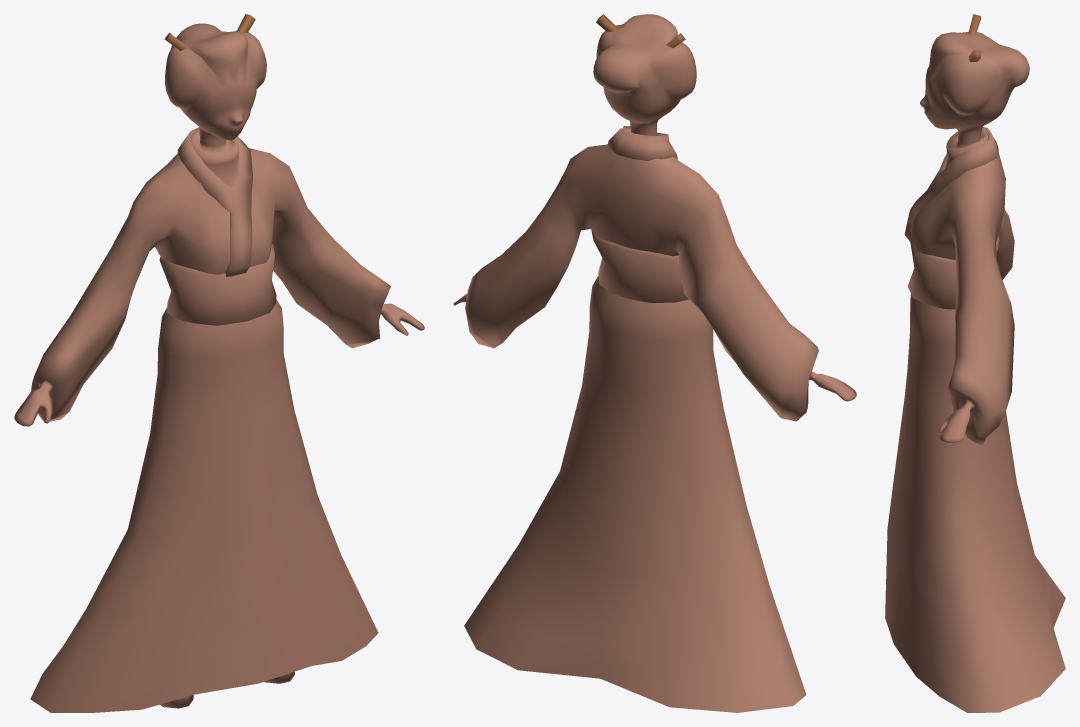
Rendered from Geisha 2.glb.
3 renders of one model, left to right at view 1: azimuth 30°, elevation 25°; view 2: azimuth 150°, elevation 25°; view 3: azimuth 270°, elevation 25°, orthographic. The views are drawn at different scales.
Parts seen in each view (by area): view 1: Geisha 2; view 2: Geisha 2; view 3: Geisha 2.
Boxes of the visible parts, x1,y1,x2,y2 form: Geisha 2: (14,14,424,712); Geisha 2: (453,14,856,712); Geisha 2: (885,14,1065,712).
Size of the model in its own units: 1.18 by 1.82 by 0.4857.
